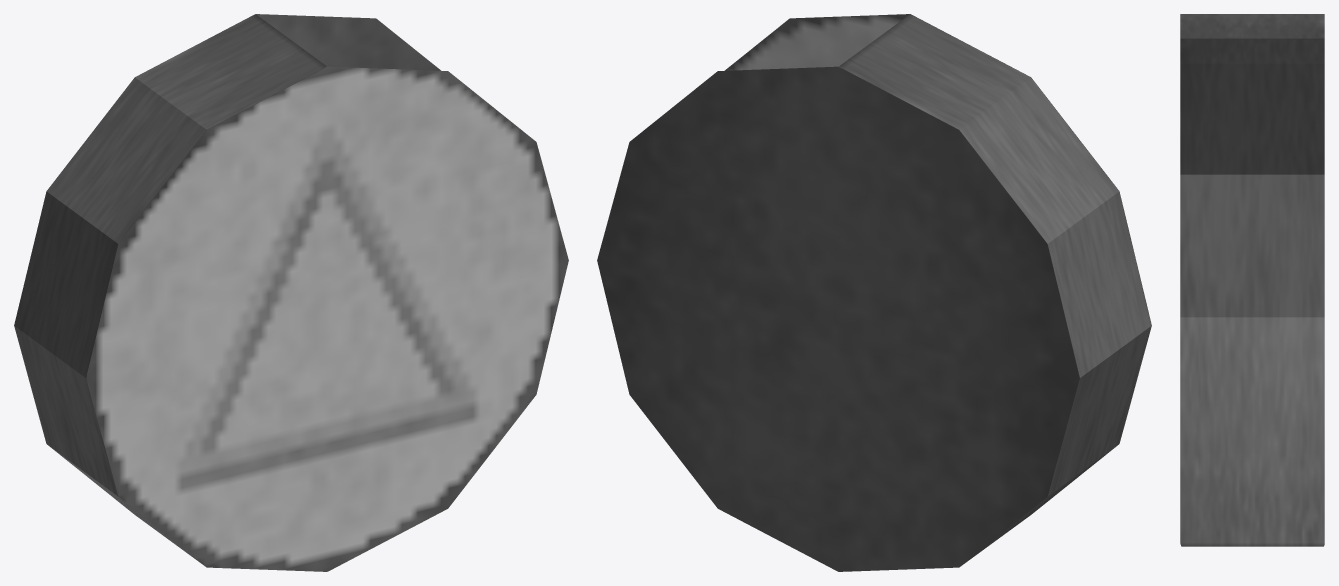
The model's file is ElevatorButtonUp.fbx.
The picture shows the model from 3 angles, left to right: view 1: azimuth 30°, elevation 25°; view 2: azimuth 150°, elevation 25°; view 3: azimuth 270°, elevation 25°; orthographic projection.
Visible parts, largest first — view 1: Cylinder; view 2: Cylinder; view 3: Cylinder.
Boxes of the visible parts, x1,y1,x2,y2 form: Cylinder: (14, 14, 568, 571); Cylinder: (597, 14, 1151, 571); Cylinder: (1180, 14, 1324, 546).
Size of the model in its own units: 61.11 by 61.11 by 15.77.
